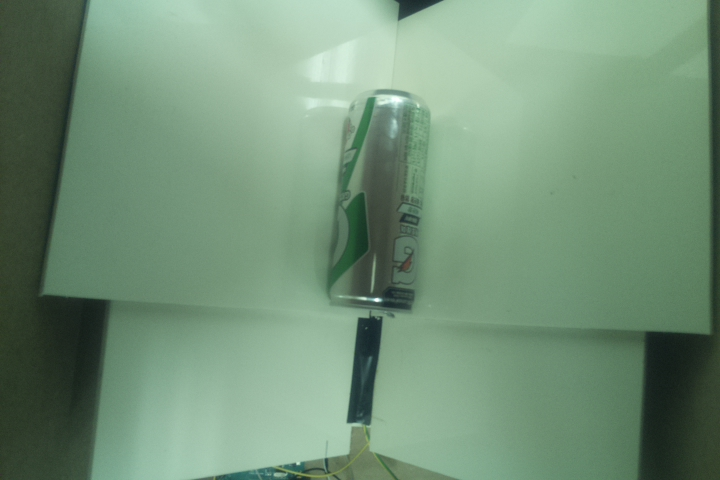can: (324, 86, 429, 321)
